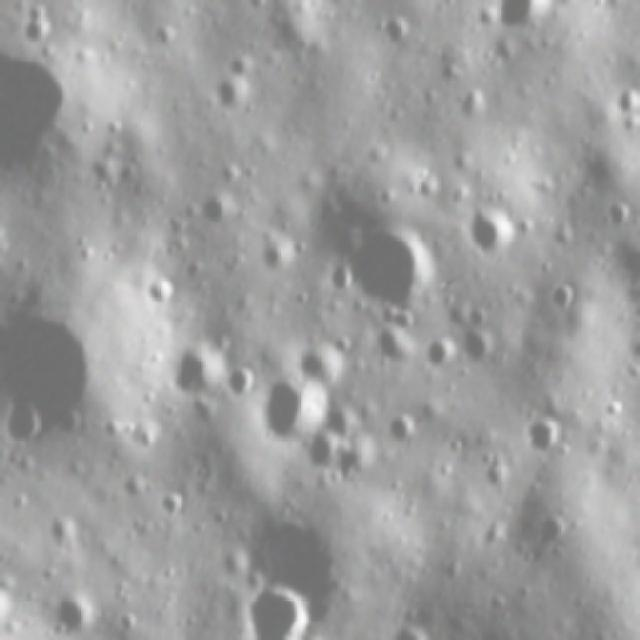crater: (3, 300, 99, 454), (3, 41, 97, 193), (345, 224, 430, 313), (260, 376, 328, 442), (236, 583, 315, 639), (160, 336, 223, 402), (464, 205, 522, 263), (192, 179, 239, 230), (459, 322, 504, 373), (520, 416, 572, 458), (528, 508, 572, 557), (203, 71, 252, 114), (375, 318, 416, 369), (331, 448, 382, 488), (286, 432, 337, 472), (382, 406, 426, 451), (255, 236, 298, 282), (49, 595, 93, 637), (415, 331, 456, 375), (545, 280, 581, 323), (377, 8, 415, 47), (458, 88, 494, 125), (152, 490, 188, 527), (611, 83, 638, 129), (50, 512, 81, 552), (602, 201, 635, 234), (145, 276, 177, 310)
